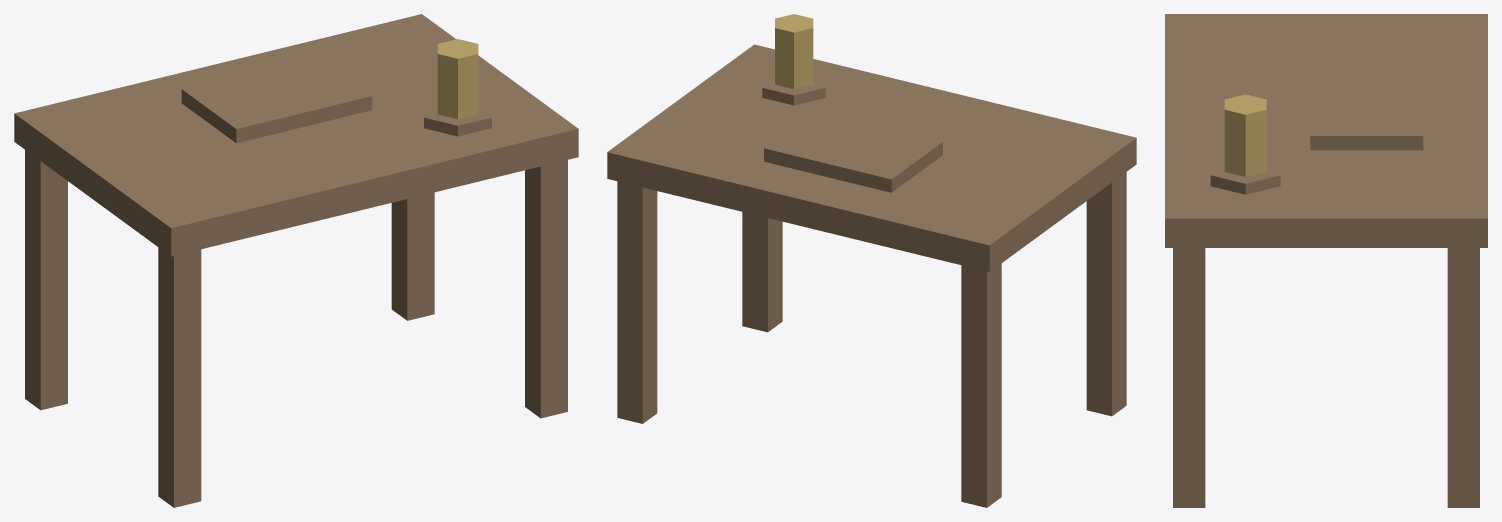
File: research_desk.glb
3 renders of one model, left to right at view 1: azimuth 30°, elevation 25°; view 2: azimuth 150°, elevation 25°; view 3: azimuth 270°, elevation 25°, orthographic. The views are drawn at different scales.
Visible parts, largest first — view 1: research_desk; view 2: research_desk; view 3: research_desk.
Boxes of the visible parts, box(x1,y1,x2,y2) form: research_desk: box(14, 14, 578, 507); research_desk: box(607, 14, 1136, 507); research_desk: box(1165, 14, 1487, 507).
Bounding box in the file's own units: 0.6 × 0.5 × 0.4.
